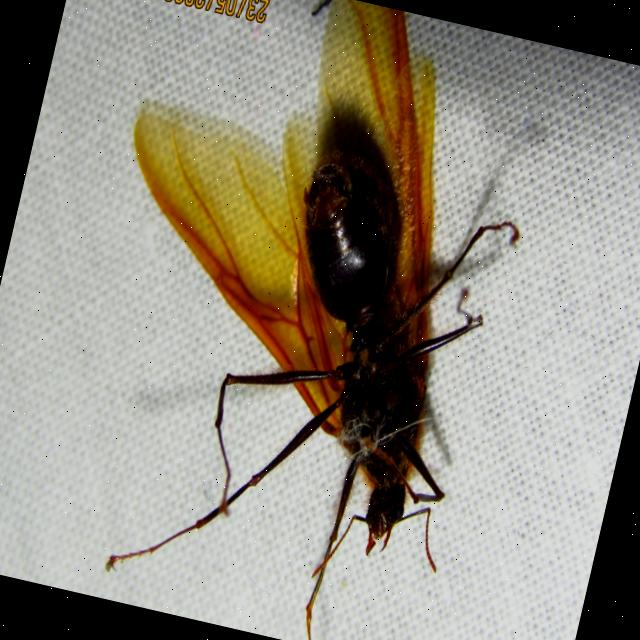Dead-Male-Alate: (30, 0, 563, 640)
